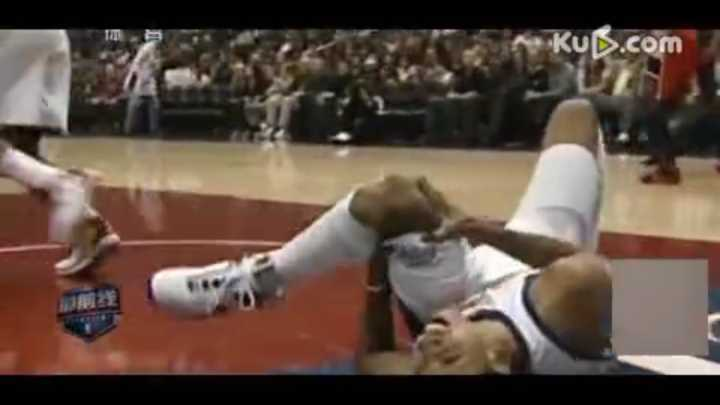10+: (1, 27, 720, 375)
down: (130, 88, 674, 374)
